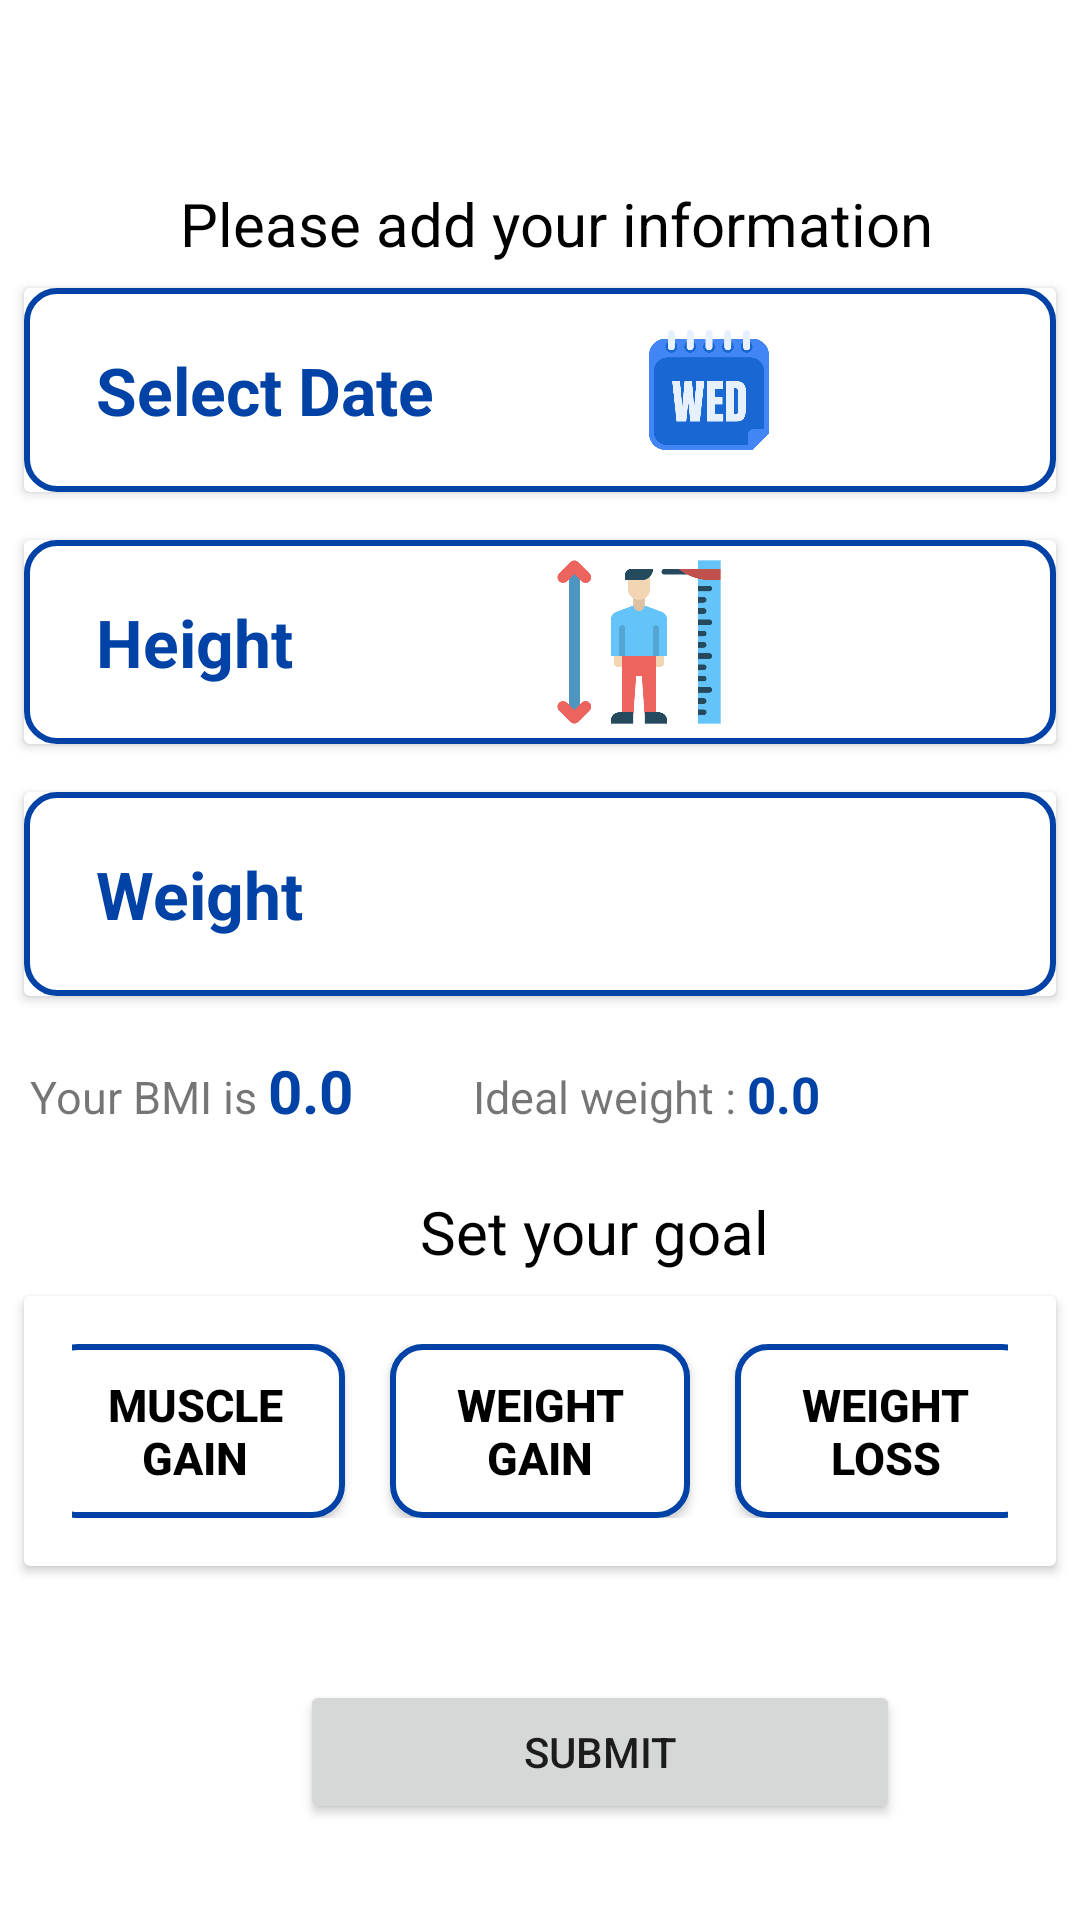

Screen size 1080*1920. Icon name, then its center in pixels as (x,y):
calander: (709,390)
height: (639,642)
